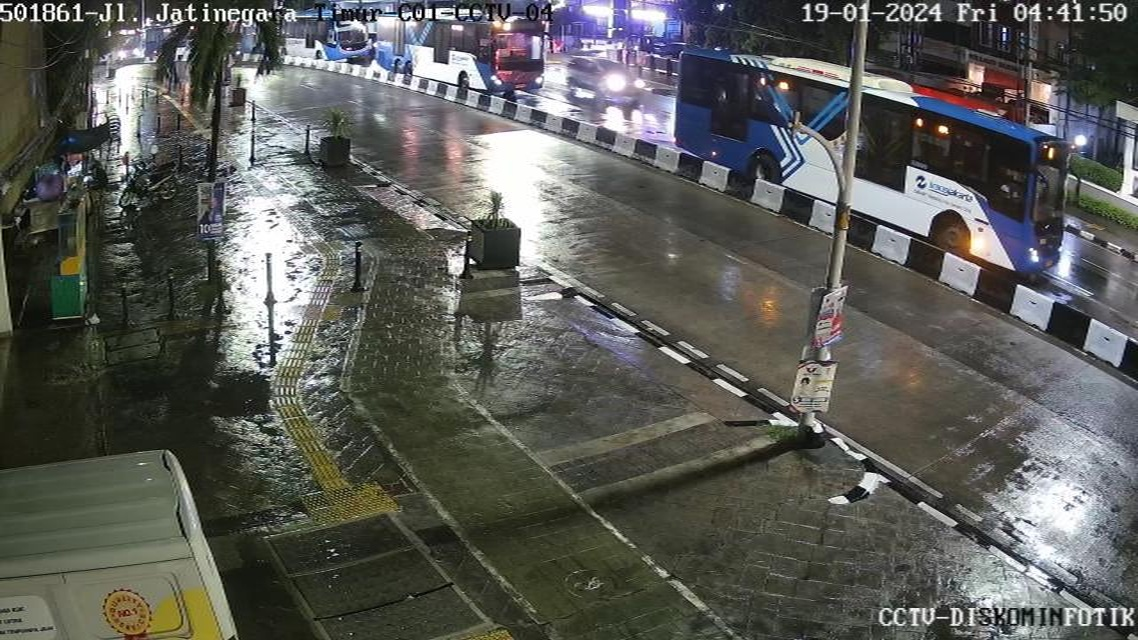Gerobak: (34, 185, 133, 344)
